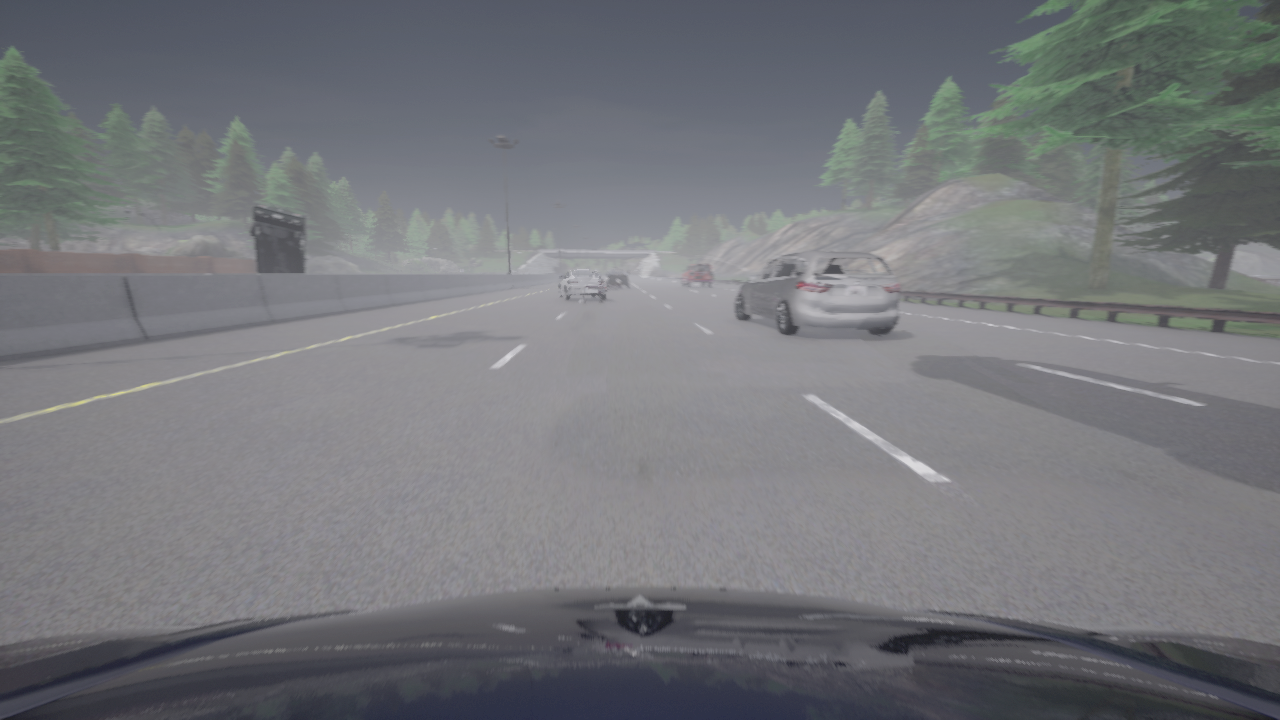cyclist: (0, 588, 1279, 719), (734, 251, 899, 335), (249, 203, 307, 274), (559, 268, 606, 301), (681, 264, 712, 287), (605, 269, 629, 288)
